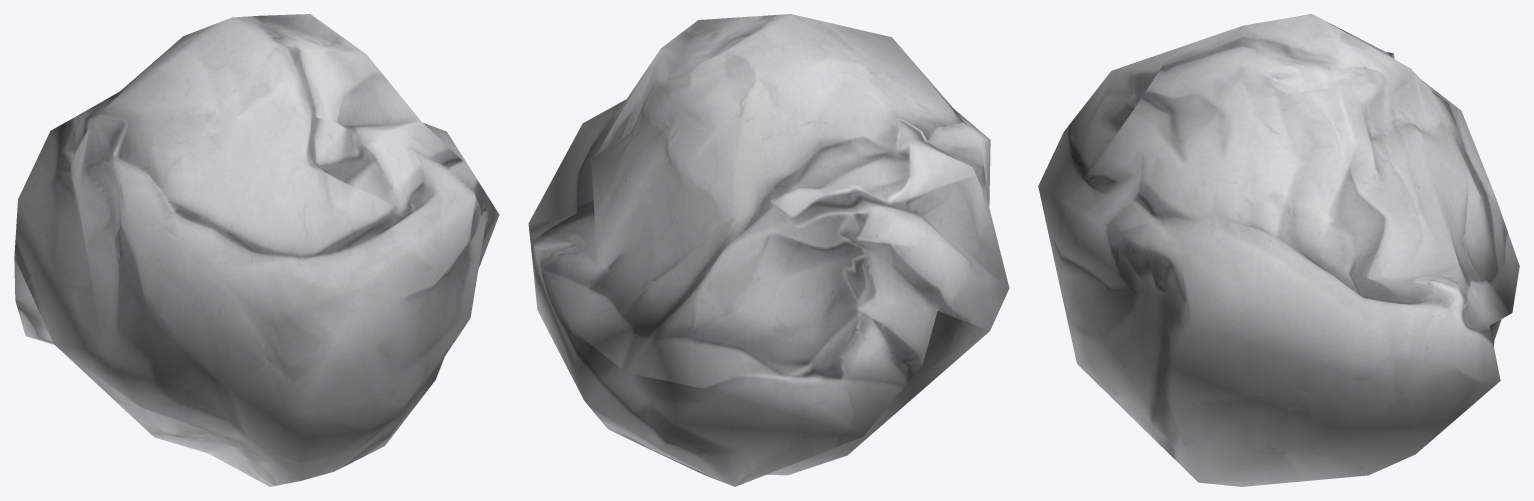
Rendered from hl_ball_paper_tall.fbx.
The picture shows the model from 3 angles, left to right: view 1: azimuth 30°, elevation 25°; view 2: azimuth 150°, elevation 25°; view 3: azimuth 270°, elevation 25°; orthographic projection. The views are drawn at different scales.
Visible parts, largest first — view 1: hl_ball_paper_tall; view 2: hl_ball_paper_tall; view 3: hl_ball_paper_tall.
Part boxes in pixels (x1=…): hl_ball_paper_tall: x1=14, y1=14, x2=499, y2=486; hl_ball_paper_tall: x1=528, y1=14, x2=1009, y2=486; hl_ball_paper_tall: x1=1038, y1=14, x2=1519, y2=486.
Bounding box in the file's own units: 14.41 × 14.77 × 14.44.
